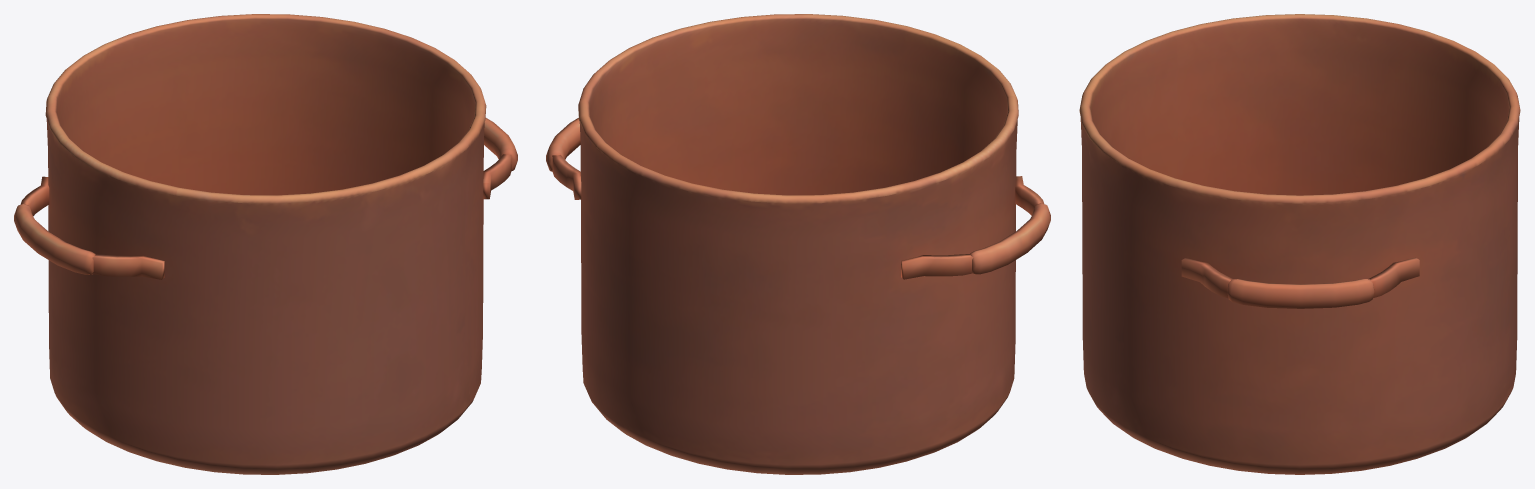
The model's file is SM_SaucePan_Copper_Pot_02.fbx.
3 renders of one model, left to right at view 1: azimuth 30°, elevation 25°; view 2: azimuth 150°, elevation 25°; view 3: azimuth 270°, elevation 25°, orthographic.
Visible parts, largest first — view 1: SM_SaucePan_Copper_Pot_02_LOD0; view 2: SM_SaucePan_Copper_Pot_02_LOD0; view 3: SM_SaucePan_Copper_Pot_02_LOD0.
Boxes of the visible parts, x1,y1,x2,y2 form: SM_SaucePan_Copper_Pot_02_LOD0: (14, 14, 517, 474); SM_SaucePan_Copper_Pot_02_LOD0: (546, 14, 1050, 474); SM_SaucePan_Copper_Pot_02_LOD0: (1079, 14, 1520, 474).
Bounding box in the file's own units: 37.4 × 30.89 × 22.46.
Materials: 1 (1 with a texture image).
